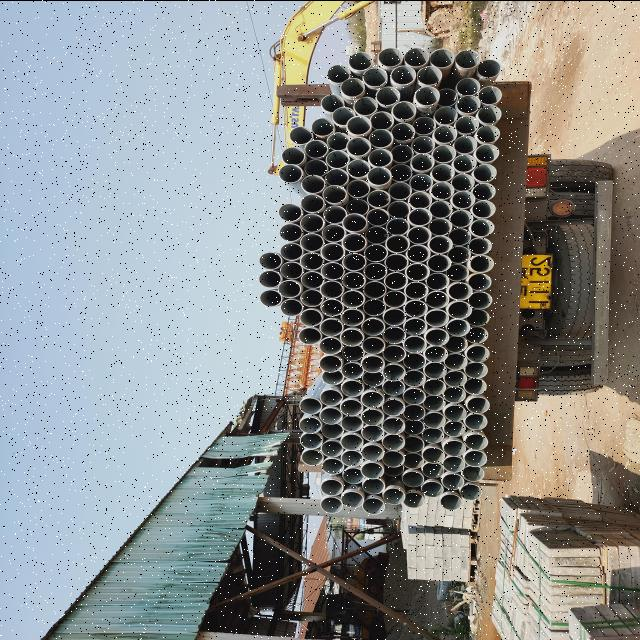pipe: (345, 156, 371, 178), (318, 316, 346, 336), (414, 86, 441, 106), (375, 86, 402, 106), (345, 136, 372, 156), (345, 116, 373, 135), (338, 307, 366, 326), (376, 46, 402, 66), (404, 46, 430, 66), (455, 48, 481, 68), (340, 77, 366, 97), (362, 66, 388, 86), (390, 64, 416, 84), (456, 76, 482, 96), (352, 95, 378, 115), (332, 105, 358, 125), (454, 114, 480, 134), (390, 121, 416, 141), (368, 128, 394, 148), (277, 202, 303, 222), (428, 198, 454, 218), (319, 260, 345, 280), (402, 316, 428, 336), (470, 216, 496, 236), (474, 143, 502, 161), (349, 50, 374, 70), (417, 64, 442, 84), (311, 116, 336, 136), (453, 134, 478, 154), (431, 162, 456, 182), (368, 146, 393, 166), (300, 212, 325, 232), (342, 251, 367, 271), (382, 306, 407, 326), (341, 270, 367, 289), (430, 48, 454, 68), (320, 92, 344, 112), (304, 138, 328, 158), (393, 100, 417, 120), (414, 114, 438, 134), (456, 93, 480, 113), (410, 152, 434, 172), (302, 173, 326, 193), (388, 180, 412, 200), (320, 242, 344, 262), (279, 260, 303, 280), (277, 278, 301, 298), (363, 260, 387, 280), (476, 58, 502, 76), (278, 164, 304, 182), (476, 124, 502, 142), (432, 125, 458, 143), (342, 212, 368, 230), (321, 223, 347, 241), (340, 290, 366, 308), (339, 328, 365, 346), (384, 253, 410, 271), (404, 262, 430, 280), (402, 299, 428, 317), (424, 290, 450, 308), (447, 300, 473, 318), (471, 198, 497, 216), (469, 254, 495, 272), (465, 308, 491, 326), (360, 424, 386, 442), (318, 388, 344, 406), (298, 431, 324, 449), (380, 416, 406, 434), (449, 207, 472, 227), (288, 125, 312, 144), (342, 232, 366, 251), (428, 234, 452, 253), (478, 85, 503, 103), (433, 106, 458, 124), (411, 134, 436, 152), (346, 178, 371, 196), (429, 181, 454, 199), (300, 270, 325, 288), (299, 308, 324, 326), (364, 242, 389, 260), (383, 289, 408, 307), (382, 326, 407, 344), (467, 272, 492, 290), (425, 328, 450, 346), (360, 354, 385, 372), (443, 352, 468, 370), (381, 378, 406, 396), (339, 414, 364, 432), (320, 438, 345, 456), (464, 432, 489, 450), (444, 318, 470, 335), (282, 145, 304, 165), (368, 166, 390, 186), (322, 184, 345, 203), (326, 64, 350, 82), (477, 59, 501, 77), (304, 158, 328, 176), (327, 132, 351, 150), (370, 110, 394, 128), (478, 104, 502, 122), (453, 153, 477, 171), (432, 144, 456, 162), (408, 172, 432, 190), (300, 194, 324, 212), (367, 188, 391, 206), (452, 173, 476, 191), (409, 190, 433, 208), (408, 207, 432, 225), (366, 207, 390, 225), (365, 225, 389, 243), (300, 252, 324, 270), (280, 241, 304, 259), (258, 251, 282, 269), (258, 270, 282, 288), (280, 298, 304, 316), (300, 288, 324, 306), (297, 326, 321, 344), (320, 280, 344, 298), (320, 298, 344, 316), (362, 298, 386, 316), (362, 317, 386, 335), (384, 270, 408, 288), (408, 225, 432, 243), (404, 280, 428, 298), (427, 253, 451, 271), (426, 272, 450, 290), (424, 308, 448, 326), (448, 227, 472, 245), (446, 262, 470, 280), (448, 282, 472, 300), (468, 236, 492, 254), (468, 290, 492, 308), (444, 334, 468, 352), (423, 344, 447, 362), (382, 344, 406, 362), (382, 362, 406, 380), (362, 336, 386, 354), (340, 343, 364, 361), (318, 354, 342, 372), (319, 336, 343, 354), (466, 344, 490, 362), (402, 368, 426, 386), (402, 386, 426, 404), (382, 397, 406, 415), (381, 416, 405, 434), (360, 390, 384, 408), (340, 398, 364, 416), (319, 405, 343, 423), (321, 421, 345, 439), (298, 416, 322, 434), (321, 456, 345, 474), (362, 496, 386, 514), (382, 450, 406, 468), (386, 235, 411, 252), (429, 217, 454, 234), (446, 245, 471, 262), (442, 455, 467, 472), (341, 360, 363, 379), (391, 164, 414, 182), (387, 200, 410, 218), (465, 324, 488, 342), (340, 378, 363, 396), (342, 466, 365, 484), (324, 168, 348, 185), (323, 206, 347, 223), (472, 182, 496, 199), (386, 217, 410, 234), (318, 337, 342, 354), (360, 408, 384, 425), (382, 433, 406, 450), (360, 461, 384, 478), (341, 491, 365, 508), (463, 378, 488, 394), (442, 386, 467, 402), (422, 378, 447, 394), (466, 396, 491, 412), (326, 149, 348, 167), (390, 144, 412, 162), (279, 223, 301, 241), (474, 163, 496, 181), (452, 190, 474, 208), (259, 288, 281, 306), (363, 280, 385, 298), (408, 243, 430, 261), (340, 432, 362, 450), (300, 395, 322, 413), (301, 448, 323, 466), (320, 496, 342, 514), (464, 362, 488, 378), (424, 362, 448, 378), (422, 394, 446, 410), (362, 370, 386, 386), (465, 413, 489, 429), (444, 404, 468, 420), (422, 412, 446, 428), (340, 450, 364, 466), (319, 478, 343, 494), (465, 450, 489, 466), (462, 465, 486, 481), (443, 371, 468, 386), (436, 88, 458, 105), (348, 198, 370, 215), (403, 352, 425, 369), (402, 435, 424, 452), (439, 492, 462, 508), (422, 427, 446, 442), (360, 444, 384, 459), (362, 478, 386, 493), (381, 488, 405, 503), (422, 447, 446, 462), (442, 474, 466, 489), (459, 484, 483, 499), (403, 336, 425, 352), (402, 404, 424, 420), (444, 420, 466, 436), (402, 418, 424, 434), (402, 452, 424, 468), (402, 470, 424, 486), (404, 491, 426, 507), (422, 462, 444, 478), (422, 480, 444, 496), (382, 461, 405, 476), (444, 440, 466, 455), (322, 370, 344, 384)
